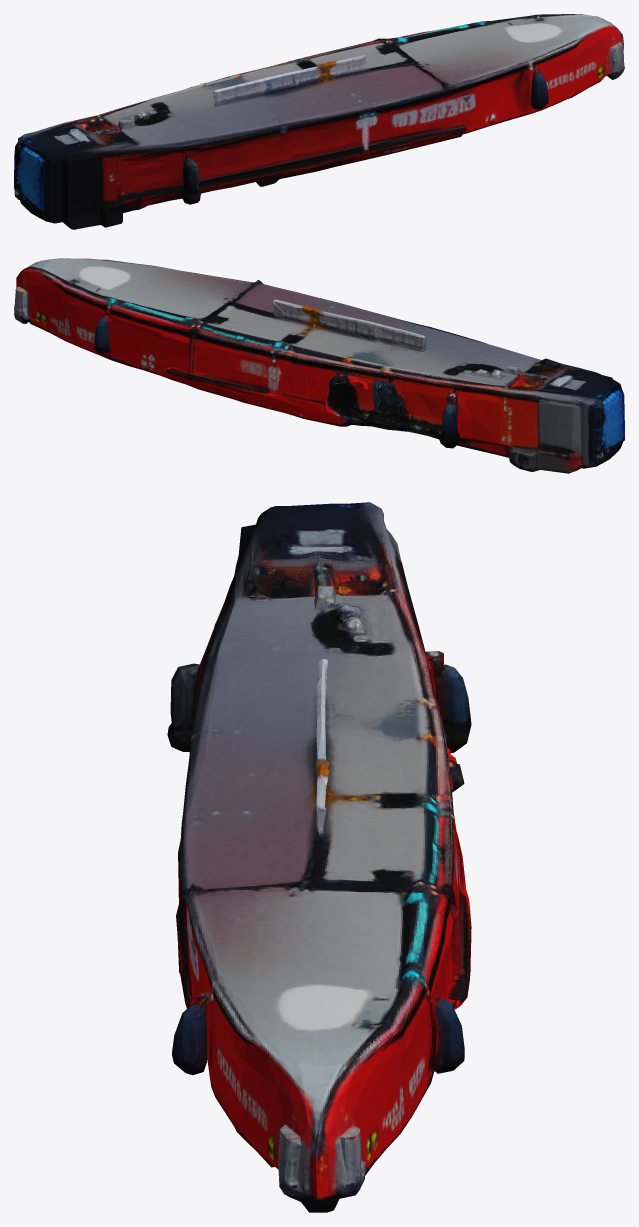
Rendered from düşman_ida34.glb.
The picture shows the model from 3 angles, top to bottom: view 1: azimuth 30°, elevation 25°; view 2: azimuth 150°, elevation 25°; view 3: azimuth 270°, elevation 25°; orthographic projection. The views are drawn at different scales.
Visible parts, largest first — view 1: world; view 2: world; view 3: world.
Part boxes in pixels (<box>): world: <box>14,14,624,229</box>; world: <box>14,258,624,473</box>; world: <box>167,502,471,1212</box>.
Size of the model in its own units: 0.989 by 0.1369 by 0.2186.
1 material, 1 textured.
